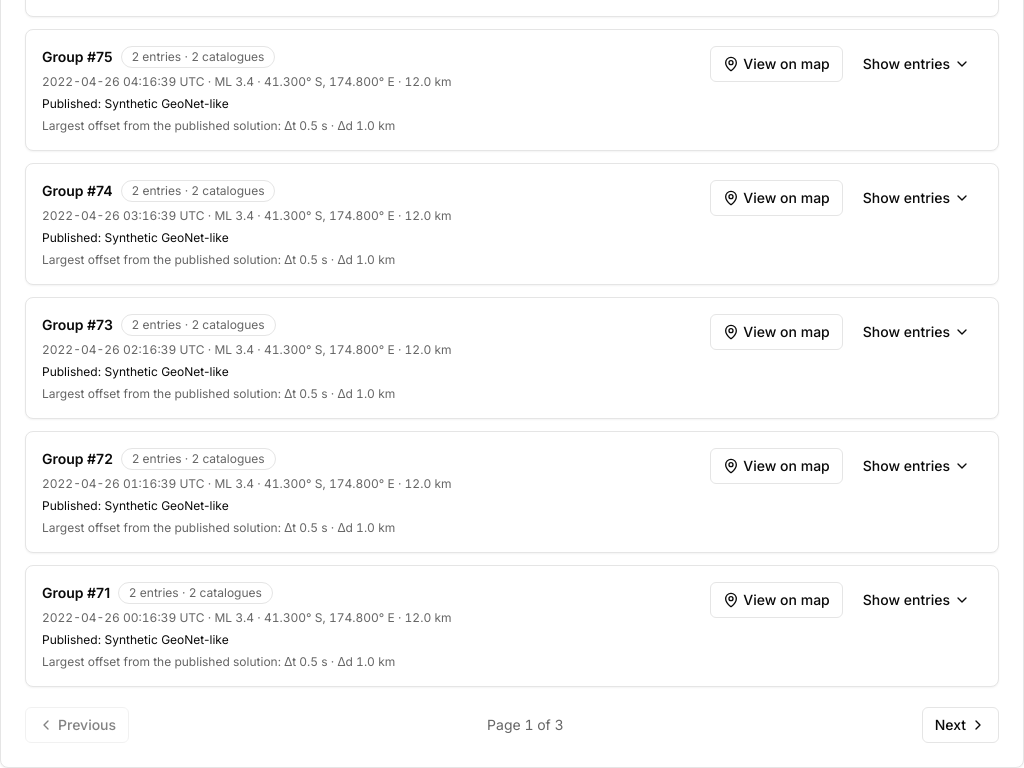
Scenario: lists, sorting, catalogue filter and pages › shows 50 groups per page, largest disagreement first
The width and height of the screenshot is (1024, 768).
(page scrolled)
Click the button "Next": (960, 725) [922,707,999,743]
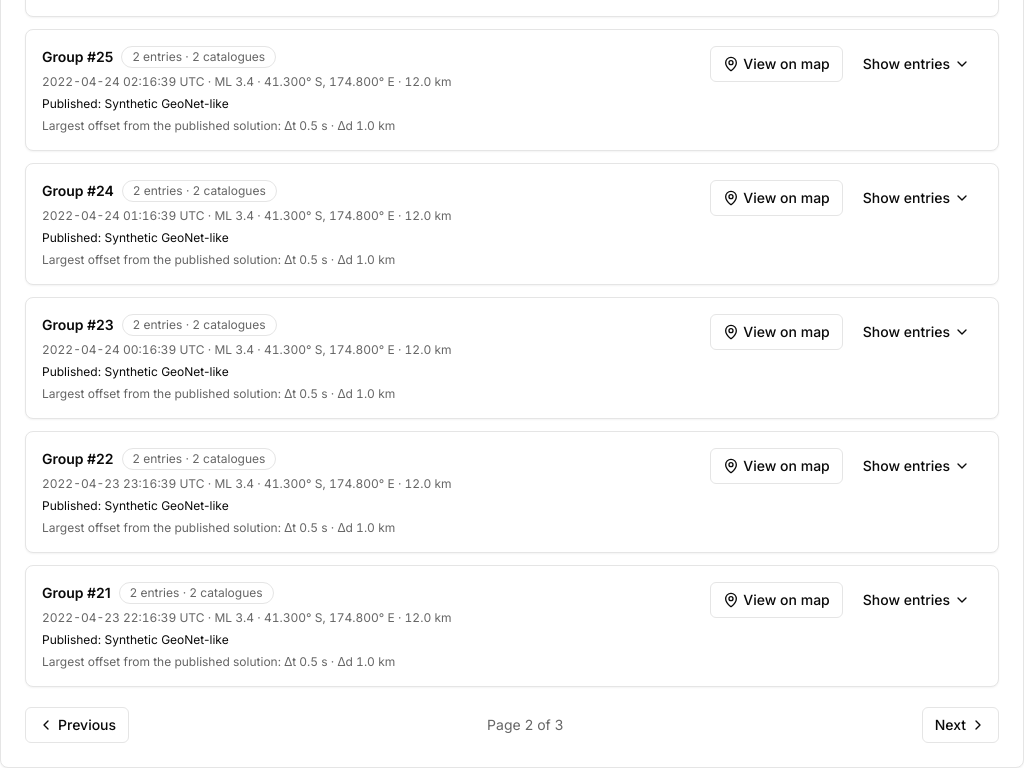
Check: the text "Page 2 of 3" is shown, box [487,715,564,735]
Click the button "Next": (960, 725) [922,707,999,743]
(page scrolled)
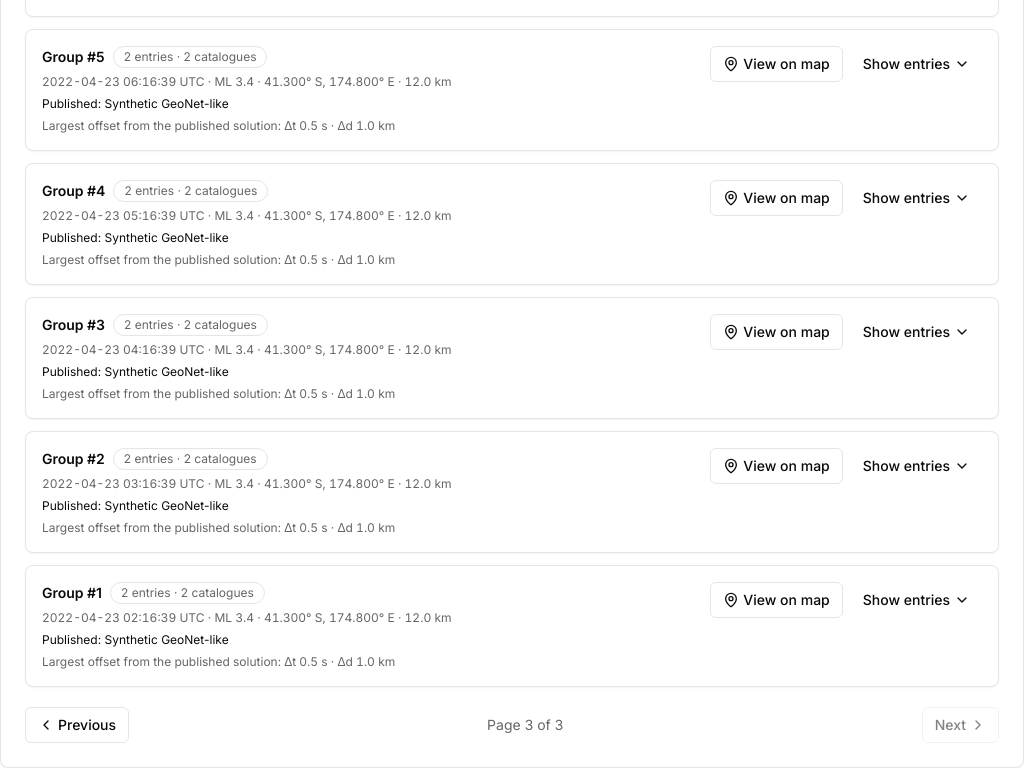
Check: the button "Next" is disabled, box [922,707,999,743]
